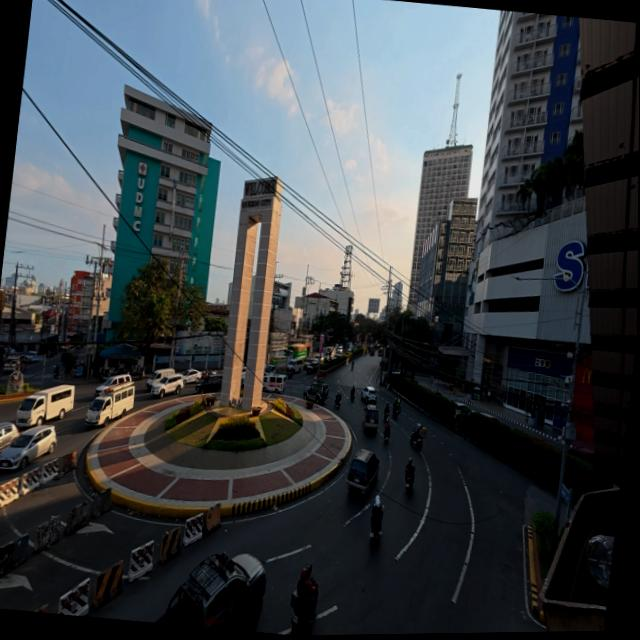car: (0, 425, 57, 470), (347, 450, 379, 496), (151, 373, 184, 399), (0, 422, 19, 452), (303, 382, 328, 403), (195, 375, 222, 394), (569, 446, 595, 463), (363, 403, 379, 430), (454, 402, 471, 421), (361, 386, 376, 404), (182, 369, 200, 384), (24, 351, 43, 363), (305, 358, 319, 374), (480, 412, 500, 423), (24, 351, 36, 361), (303, 359, 311, 370), (377, 347, 383, 356), (370, 349, 374, 356)
motorcycle: (290, 590, 311, 635), (411, 425, 427, 450), (370, 519, 380, 546), (130, 367, 145, 380), (411, 436, 423, 451), (405, 476, 413, 494), (384, 429, 391, 445), (335, 392, 342, 407), (393, 405, 400, 419), (52, 365, 59, 379), (384, 411, 389, 423), (350, 393, 355, 403), (351, 363, 354, 370)
trucks: (156, 554, 266, 630), (285, 341, 309, 360), (271, 356, 290, 373)
vans: (16, 385, 74, 429), (86, 384, 134, 426), (95, 374, 131, 397), (146, 368, 174, 391), (263, 375, 286, 392), (287, 358, 304, 373), (4, 358, 20, 373)
